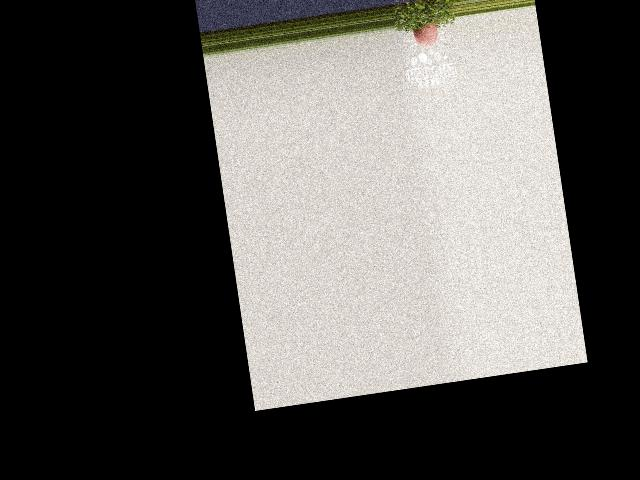egg: (411, 22, 439, 49)
